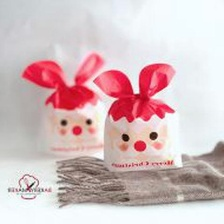snack: (15, 37, 123, 162), (88, 52, 190, 176)
